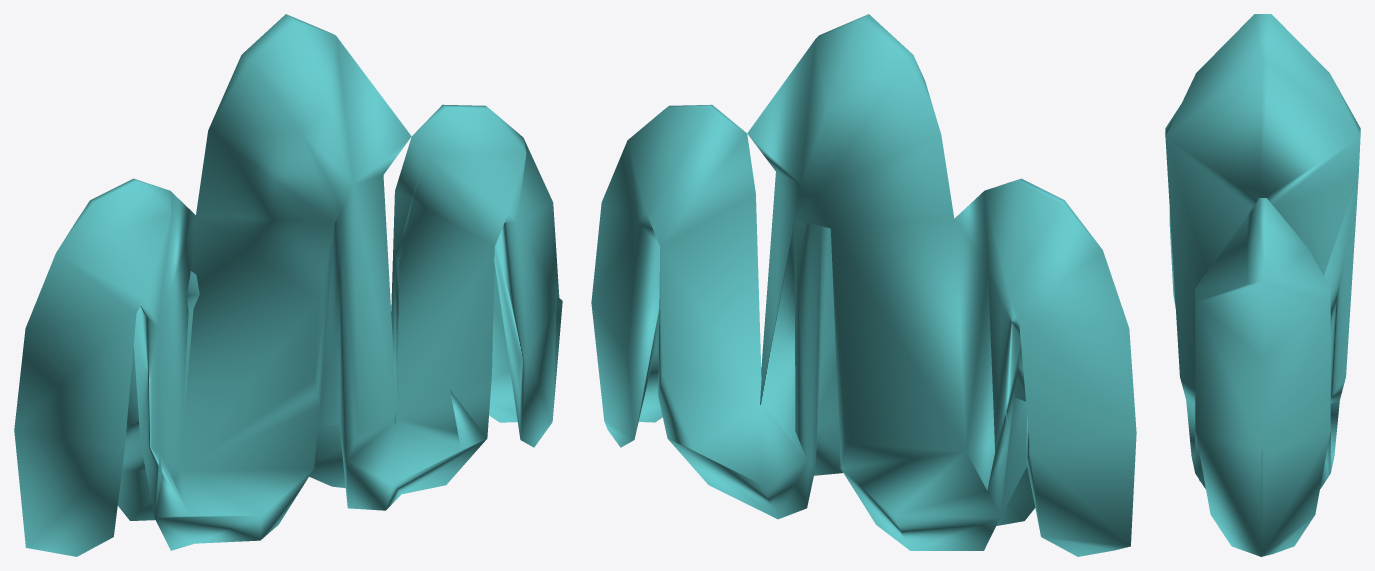
The model's file is usk_Bush-tX1aT9IB1P_lod.glb.
3 renders of one model, left to right at view 1: azimuth 30°, elevation 25°; view 2: azimuth 150°, elevation 25°; view 3: azimuth 270°, elevation 25°, orthographic. The views are drawn at different scales.
Parts seen in each view (by area): view 1: Bush_2; view 2: Bush_2; view 3: Bush_2.
Boxes of the visible parts, x1,y1,x2,y2 form: Bush_2: (14,14,562,556); Bush_2: (591,14,1136,556); Bush_2: (1165,14,1360,556).
Bounding box in the file's own units: 1.82 × 1.59 × 0.6159.
Materials: 1 (1 with a texture image).
